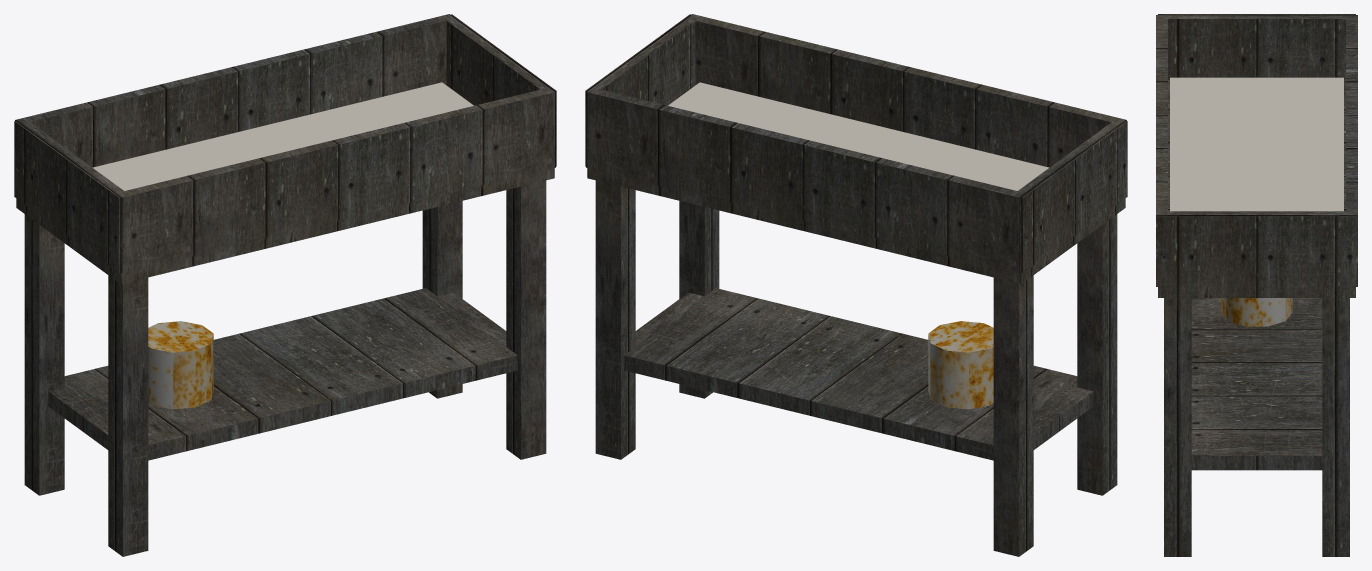
The model's file is salt_box.glb.
3 renders of one model, left to right at view 1: azimuth 30°, elevation 25°; view 2: azimuth 150°, elevation 25°; view 3: azimuth 270°, elevation 25°, orthographic. The views are drawn at different scales.
Visible parts, largest first — view 1: salt_box; view 2: salt_box; view 3: salt_box.
Part boxes in pixels (left/top/right/bottom): salt_box: left=14, top=14, right=556, bottom=556; salt_box: left=585, top=14, right=1127, bottom=556; salt_box: left=1156, top=14, right=1357, bottom=556.
Size of the model in its own units: 1.21 by 0.96 by 0.51.
3 materials, 2 textured.
